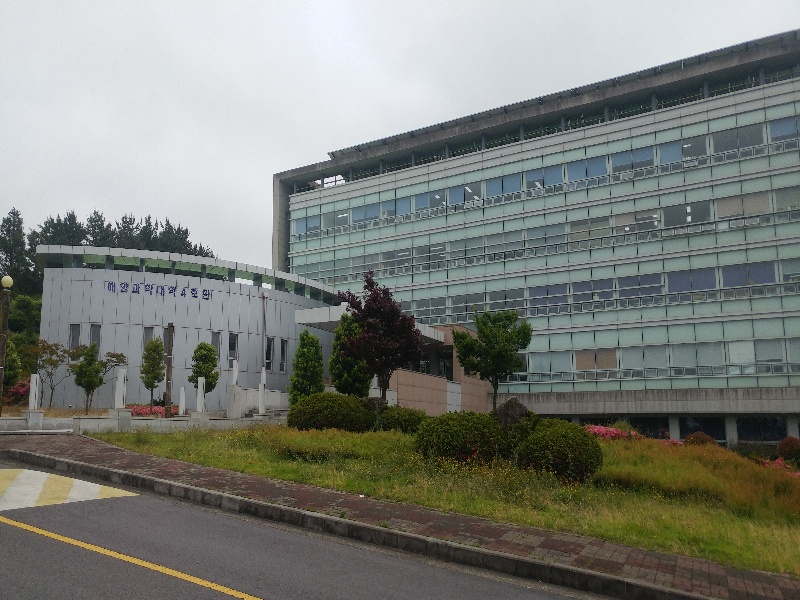College of Marine Science: (35, 72, 796, 411), (262, 113, 787, 387), (98, 269, 258, 327)
